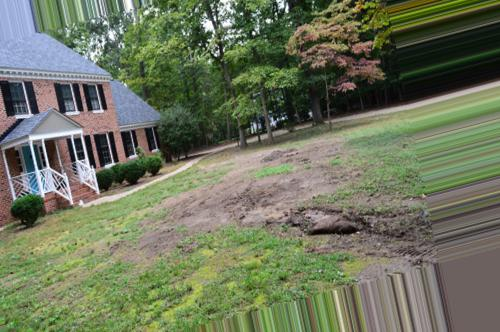patch: (308, 208, 401, 233), (205, 188, 281, 218), (361, 236, 413, 265), (173, 195, 203, 223), (136, 231, 179, 249), (289, 169, 319, 193), (316, 140, 338, 159), (240, 158, 278, 168), (240, 169, 274, 179), (329, 174, 339, 189)
